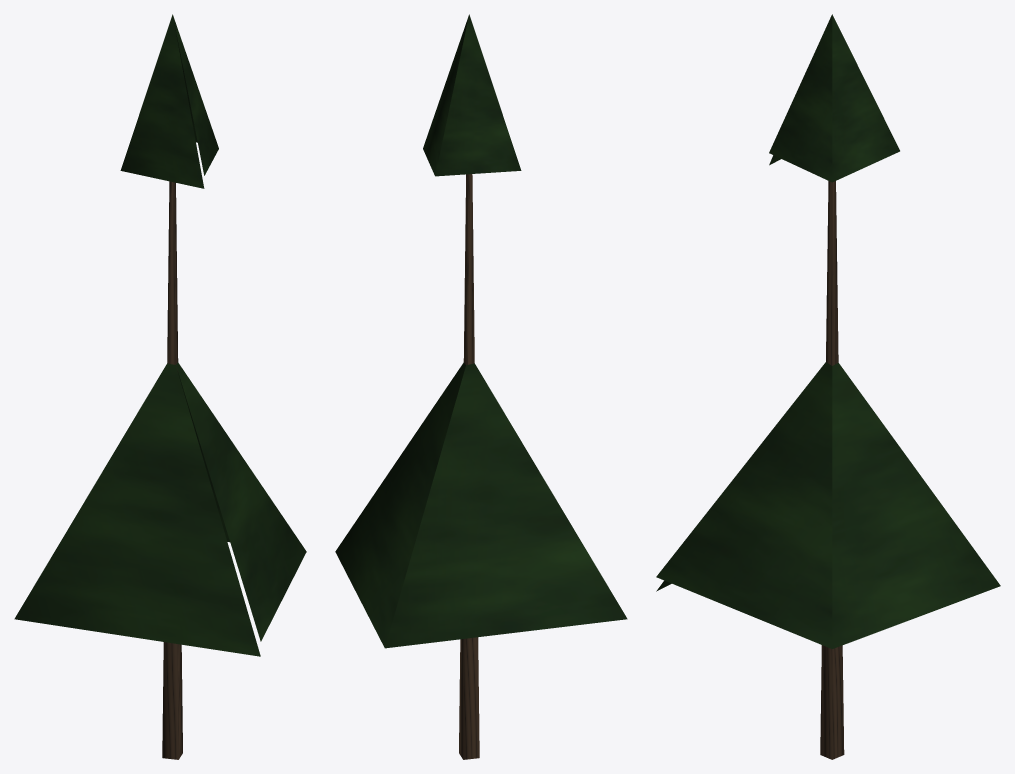
Rendered from pine_L0.glb.
3 renders of one model, left to right at view 1: azimuth 30°, elevation 25°; view 2: azimuth 150°, elevation 25°; view 3: azimuth 270°, elevation 25°, orthographic.
Bounding box in the file's own units: 6.3 × 15.26 × 6.44.
Materials: 2 (2 with a texture image).
